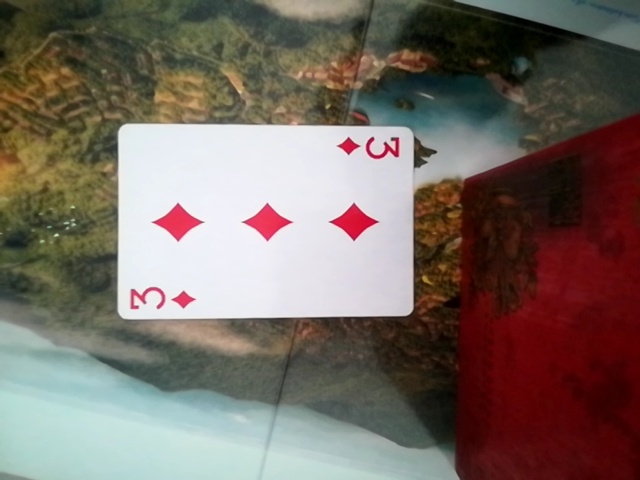fk 3: (110, 121, 417, 328)
